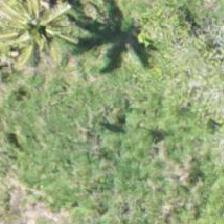Kelapa_Sawit: (0, 0, 79, 64)
